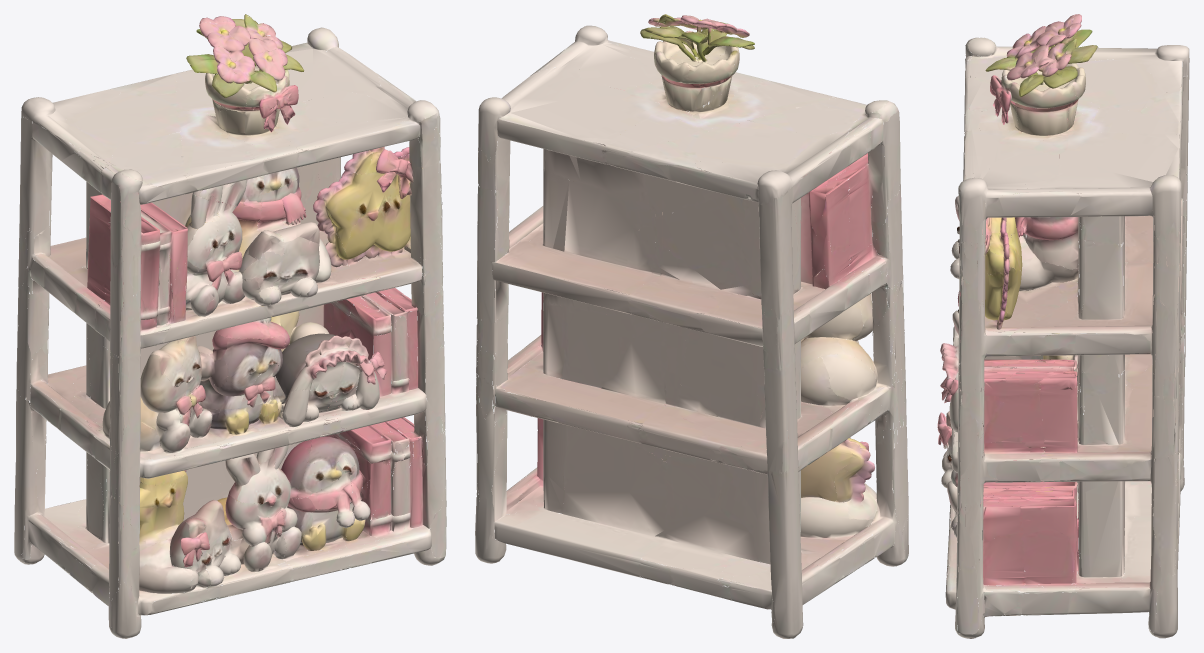
The model's file is shelf.glb.
3 views of the same model, side by side, from view 1: azimuth 30°, elevation 25°; view 2: azimuth 150°, elevation 25°; view 3: azimuth 270°, elevation 25° (orthographic). The views are drawn at different scales.
Parts seen in each view (by area): view 1: tripo_node_163f0c87-8d7e-4584-b835-877a99f7a757; view 2: tripo_node_163f0c87-8d7e-4584-b835-877a99f7a757; view 3: tripo_node_163f0c87-8d7e-4584-b835-877a99f7a757.
Part boxes in pixels (x1,y1,x2,y2): tripo_node_163f0c87-8d7e-4584-b835-877a99f7a757: [14, 14, 446, 638]; tripo_node_163f0c87-8d7e-4584-b835-877a99f7a757: [475, 14, 908, 638]; tripo_node_163f0c87-8d7e-4584-b835-877a99f7a757: [937, 14, 1189, 638].
Bounding box in the file's own units: 0.6293 × 0.9798 × 0.4151.
1 material, 1 textured.
